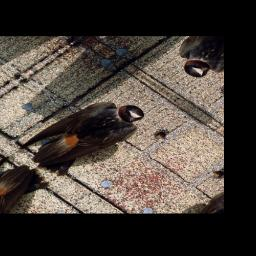Swallow: (11, 85, 156, 184)
